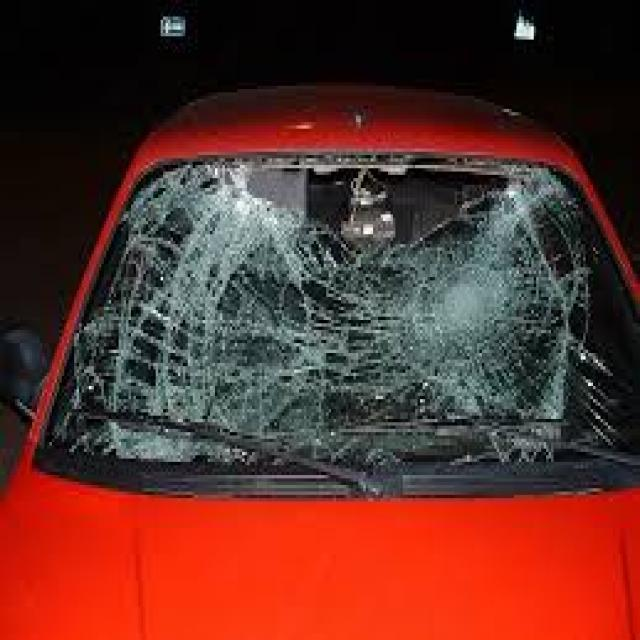damaged-windscreen: (52, 148, 640, 494)
